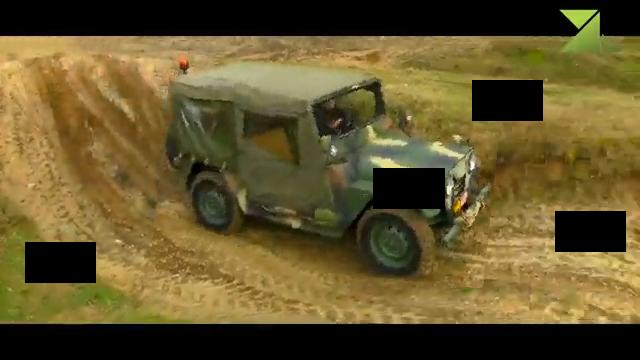MIL_HMMWV: (156, 61, 500, 280)
